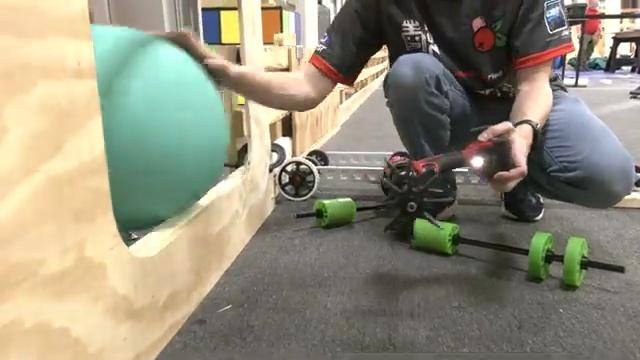ALGAE: (88, 22, 230, 238)
